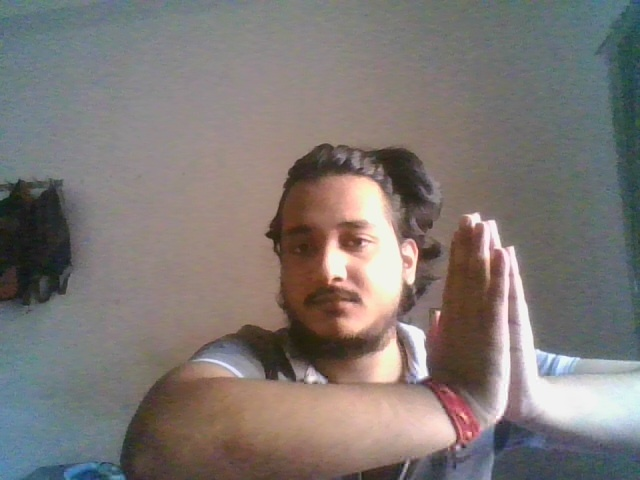ThankYou: (425, 211, 541, 425)
